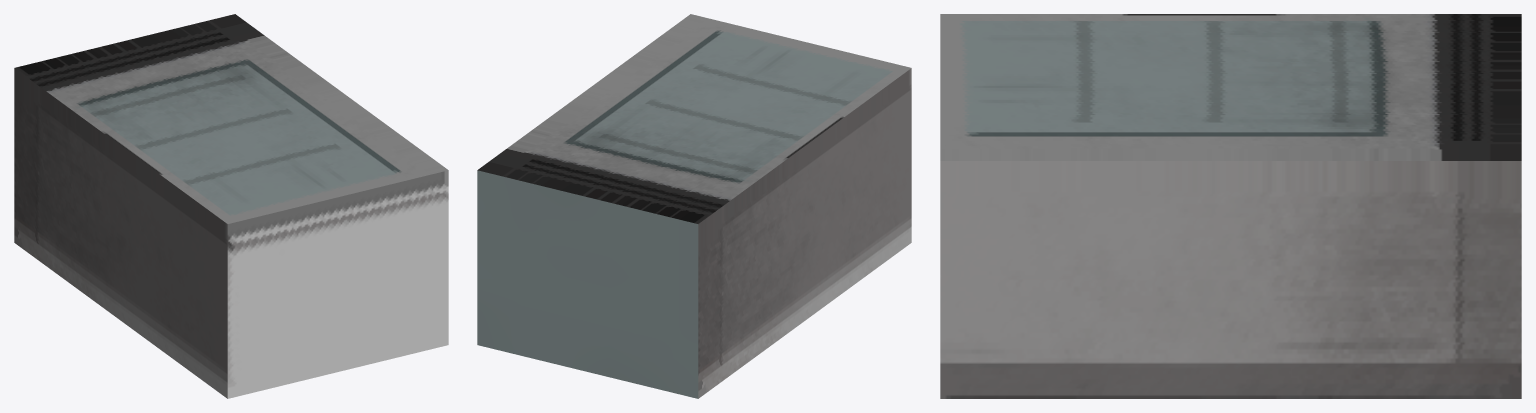
File: pz_g016_white_industrial_fridge.obj
The picture shows the model from 3 angles, left to right: view 1: azimuth 30°, elevation 25°; view 2: azimuth 150°, elevation 25°; view 3: azimuth 270°, elevation 25°; orthographic projection. The views are drawn at different scales.
Parts seen in each view (by area): view 1: native_component_0_y+, native_component_0_z+, native_component_0_x-; view 2: native_component_0_y+, native_component_0_z-, native_component_0_x-; view 3: native_component_0_x+, native_component_0_y+.
Boxes of the visible parts, x1,y1,x2,y2 form: native_component_0_y+: (15,14,448,223); native_component_0_z+: (227,170,448,398); native_component_0_x-: (14,68,227,398); native_component_0_y+: (477,14,910,223); native_component_0_z-: (477,170,698,398); native_component_0_x-: (698,68,911,398); native_component_0_x+: (940,161,1521,398); native_component_0_y+: (940,14,1521,160).
Size of the model in its own units: 0.9574 by 0.7234 by 1.6.
Materials: 1 (1 with a texture image).
